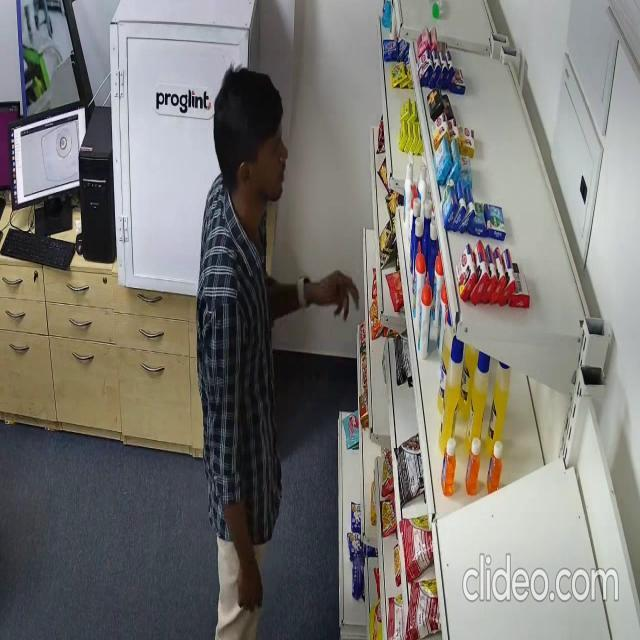normal: (195, 62, 361, 640)
